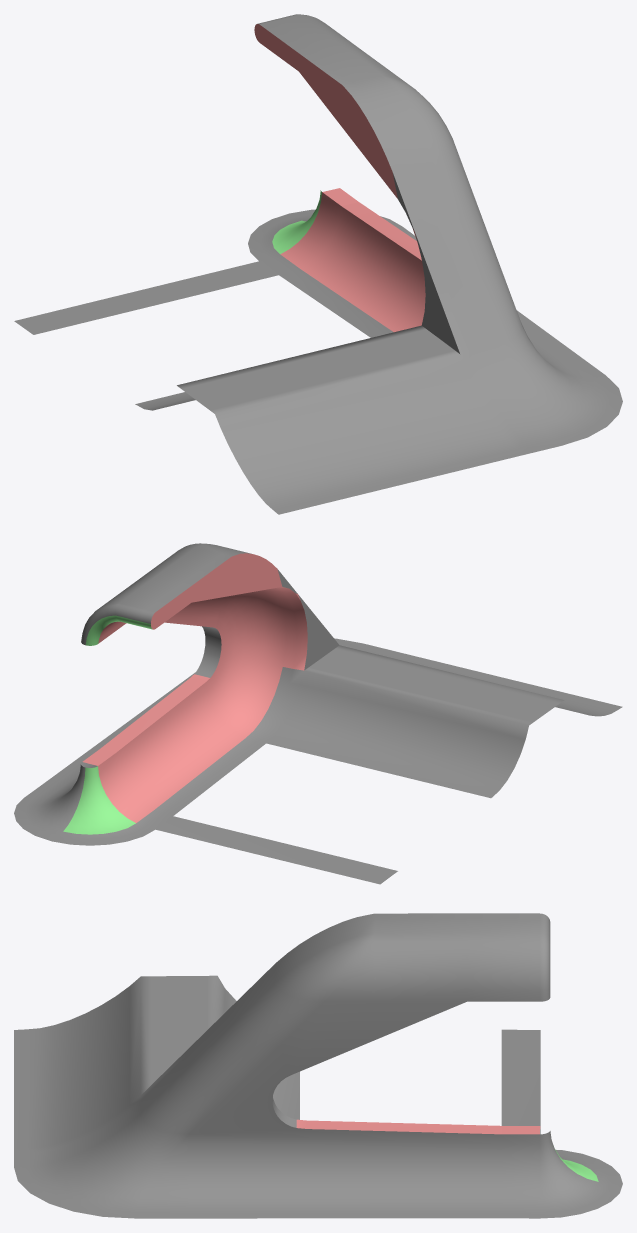
File: LongField_Goal_Main.gltf
The picture shows the model from 3 angles, top to bottom: view 1: azimuth 30°, elevation 25°; view 2: azimuth 150°, elevation 25°; view 3: azimuth 270°, elevation 25°; orthographic projection. The views are drawn at different scales.
Visible parts, largest first — view 1: LongField_Goal_Main; view 2: LongField_Goal_Main; view 3: LongField_Goal_Main.
Boxes of the visible parts, left/top/right/bottom form: LongField_Goal_Main: left=14, top=14, right=622, bottom=514; LongField_Goal_Main: left=14, top=543, right=622, bottom=884; LongField_Goal_Main: left=14, top=913, right=622, bottom=1218.
Bounding box in the file's own units: 11.9 × 6.94 × 16.25.
